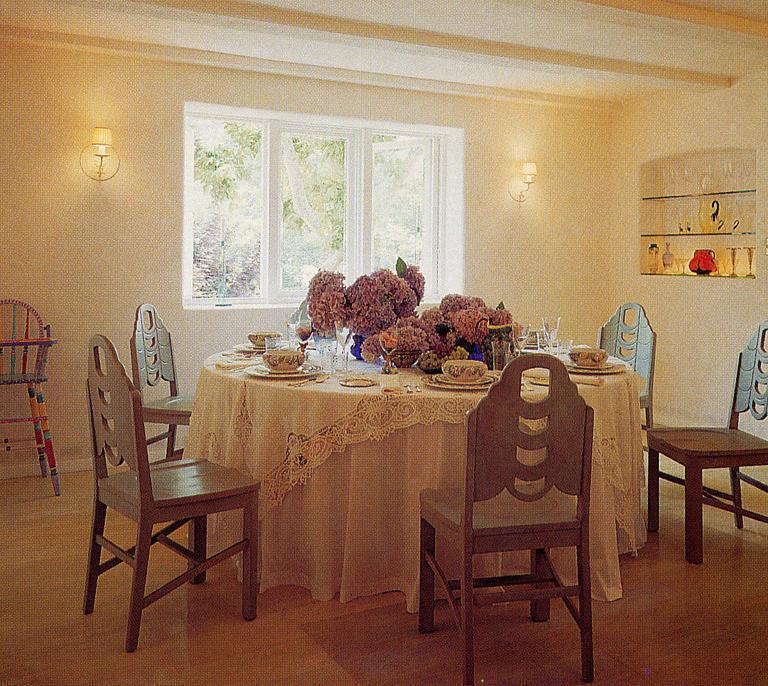Ventana: (189, 105, 437, 294)
